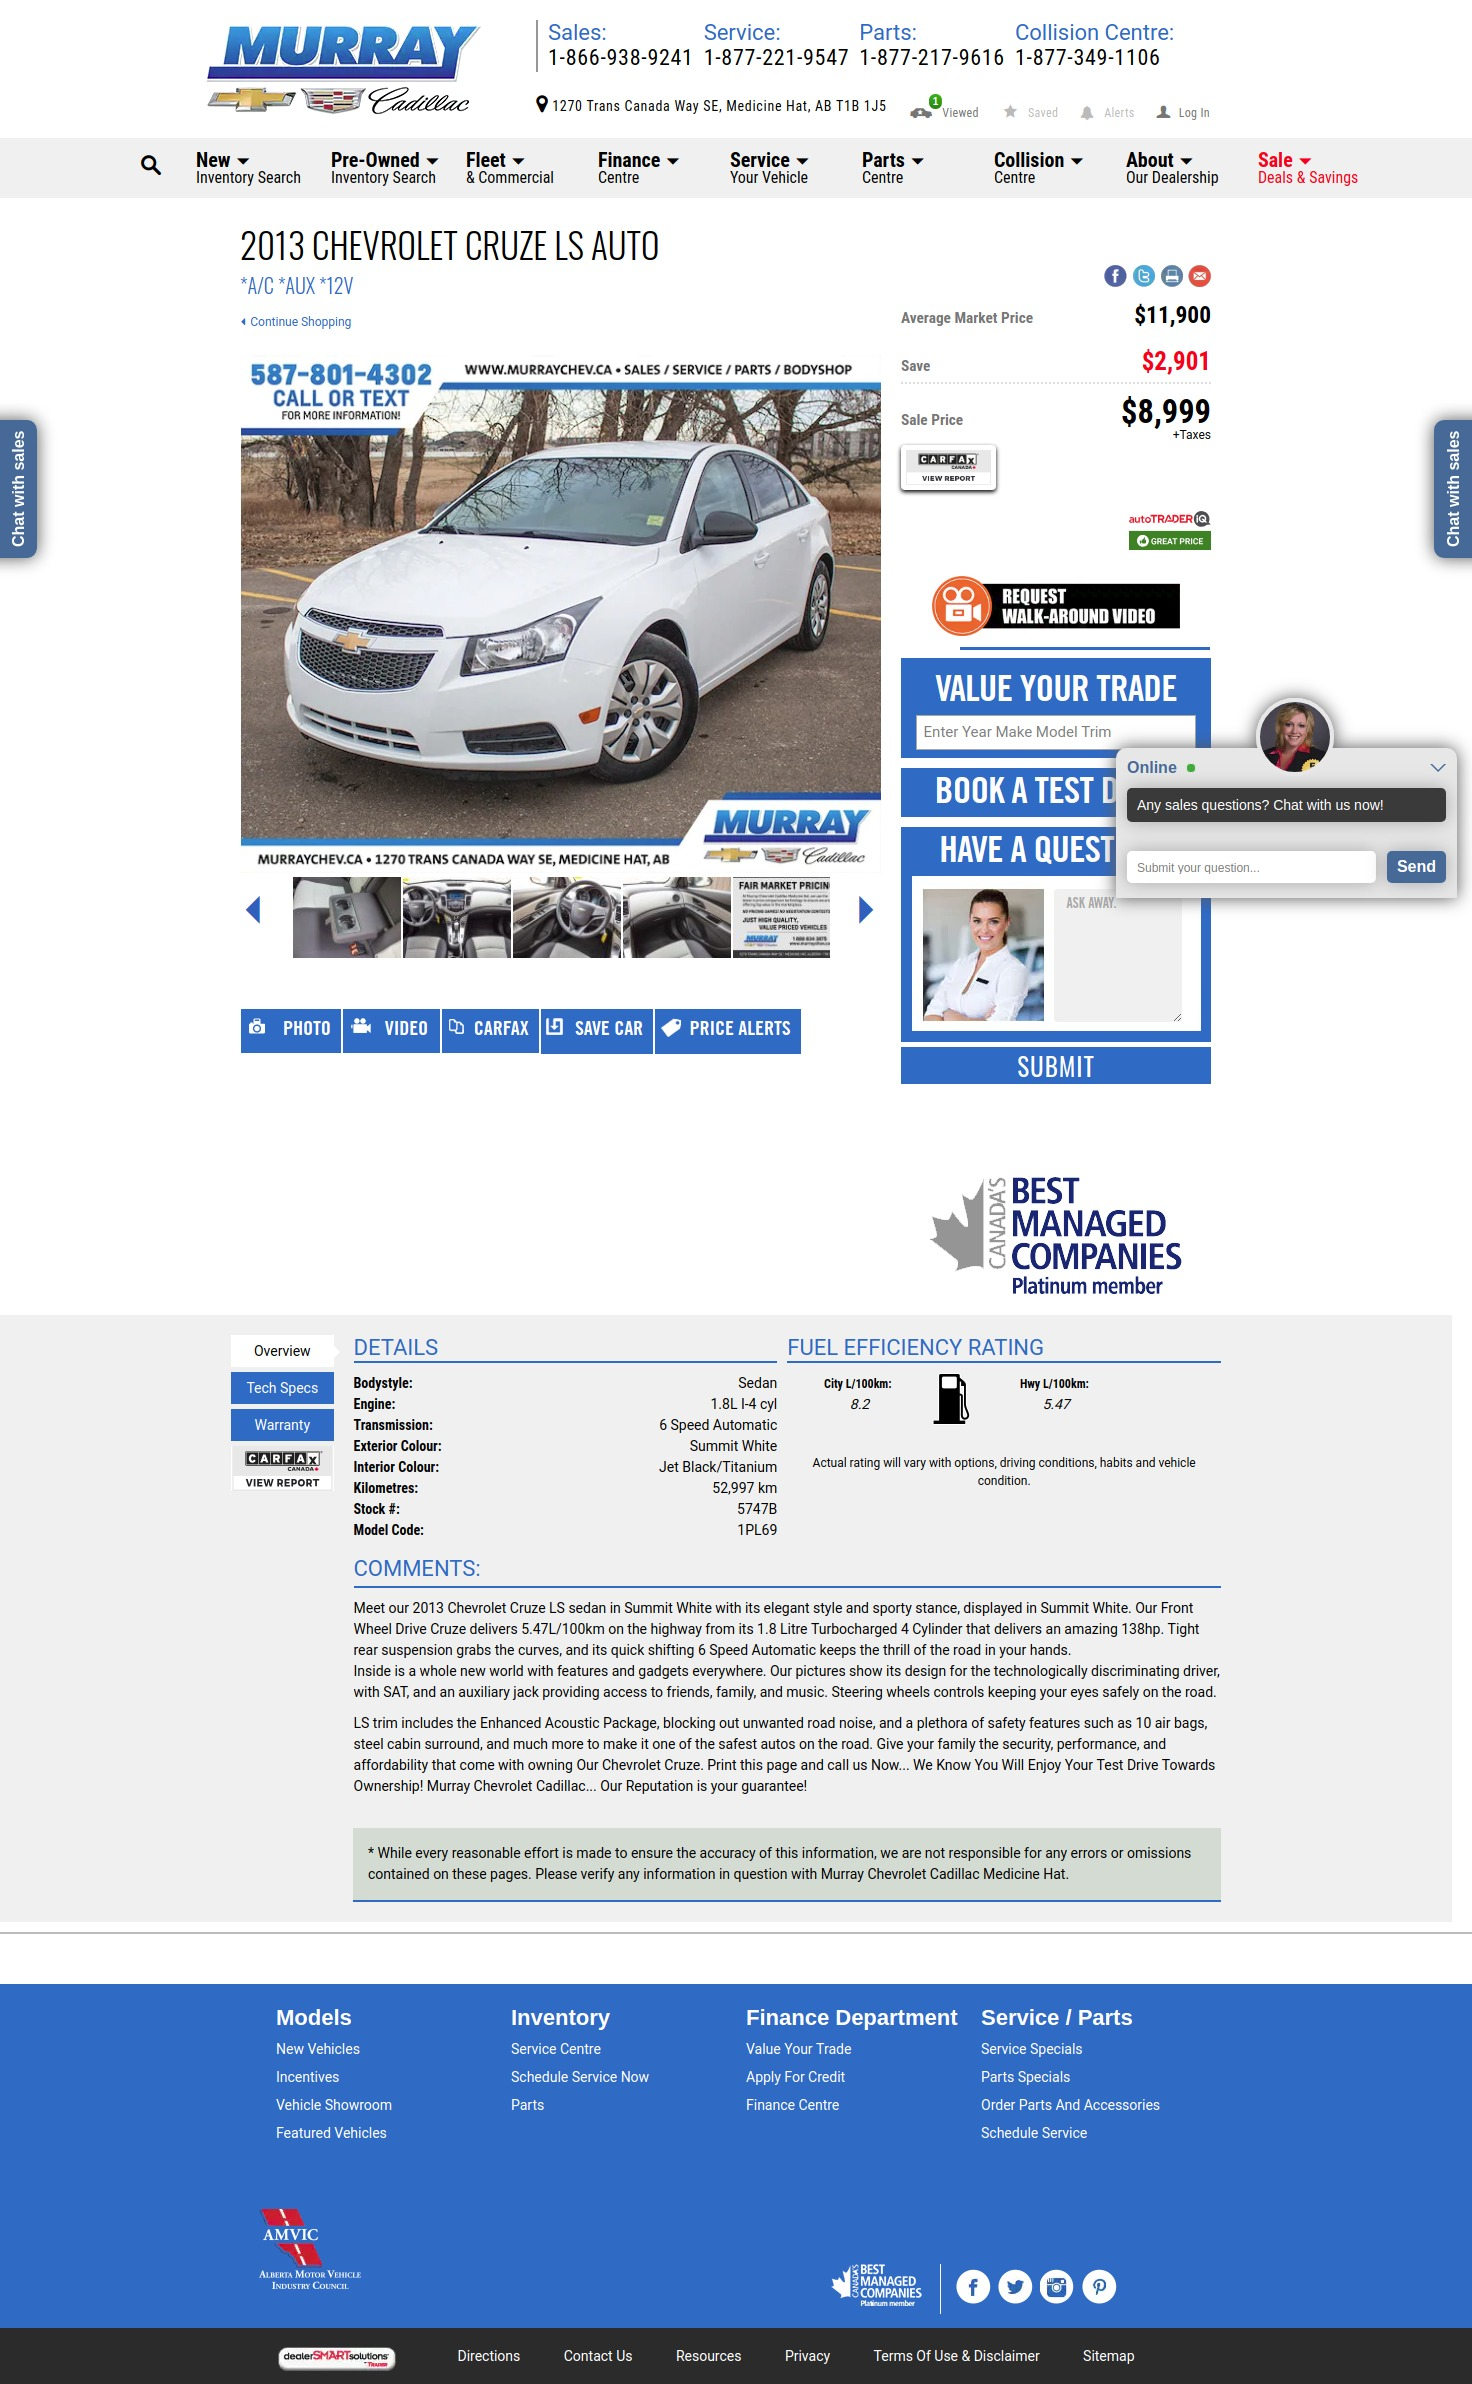car: (859, 896, 876, 926)
